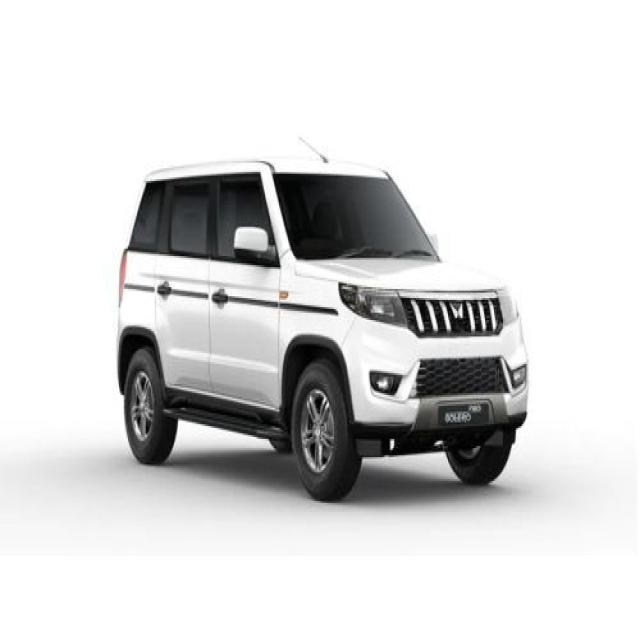light_vehicle: (118, 158, 532, 495)
